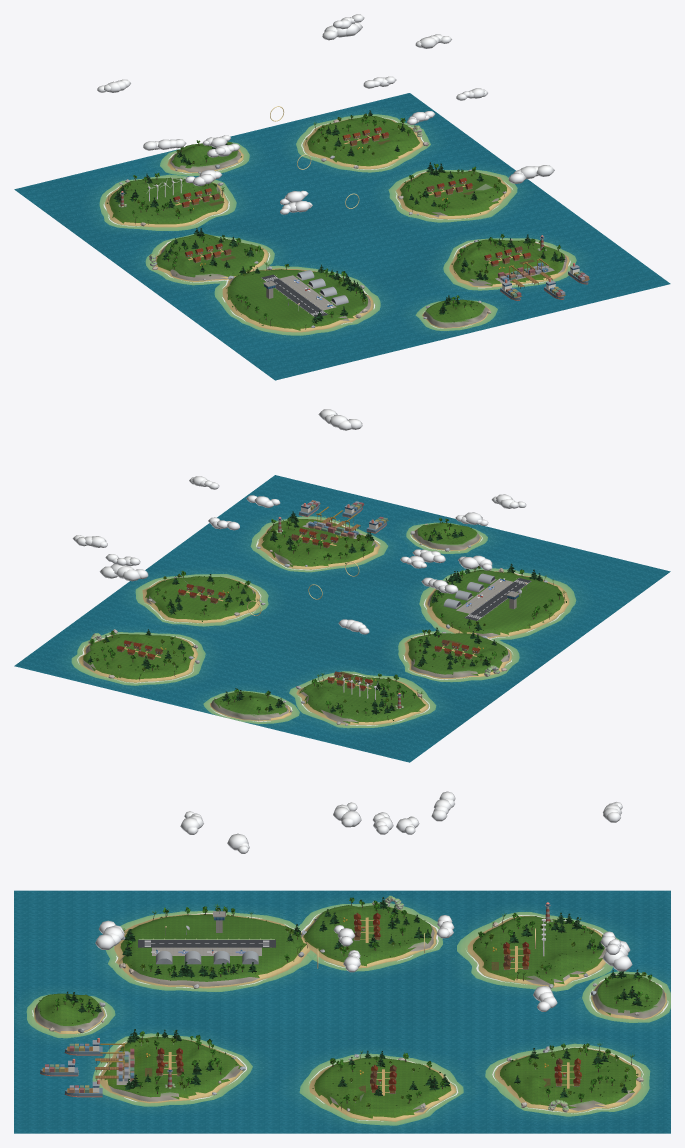
File: sky-archipelago.glb
The picture shows the model from 3 angles, top to bottom: view 1: azimuth 30°, elevation 25°; view 2: azimuth 150°, elevation 25°; view 3: azimuth 270°, elevation 25°; orthographic projection. The views are drawn at different scales.
Parts seen in each view (by area): view 1: Scenery_water, Scenery_ground, Scenery_sand, Scenery_misc, Scenery_pine, Scenery_rock, Scenery_leaf, Scenery_metal, Scenery_roof, Scenery_concrete, Scenery_wood, Scenery_asphalt; view 2: Scenery_water, Scenery_ground, Scenery_sand, Scenery_misc, Scenery_rock, Scenery_pine, Scenery_leaf, Scenery_metal, Scenery_roof, Scenery_concrete, Scenery_wood, Scenery_asphalt; view 3: Scenery_water, Scenery_ground, Scenery_sand, Scenery_misc, Scenery_rock, Scenery_pine, Scenery_leaf, Scenery_metal, Scenery_roof, Scenery_concrete, Scenery_asphalt, Scenery_wood (+1 smaller).
Part boxes in pixels (<box>): Scenery_water: <box>14,93,670,380</box>; Scenery_ground: <box>109,116,565,330</box>; Scenery_sand: <box>99,114,576,335</box>; Scenery_misc: <box>97,14,588,328</box>; Scenery_pine: <box>113,110,565,323</box>; Scenery_rock: <box>118,119,567,327</box>; Scenery_leaf: <box>106,115,562,325</box>; Scenery_metal: <box>268,258,589,305</box>; Scenery_roof: <box>173,127,531,264</box>; Scenery_concrete: <box>120,195,554,310</box>; Scenery_wood: <box>173,130,589,298</box>; Scenery_asphalt: <box>261,274,327,317</box>; Scenery_water: <box>14,475,670,762</box>; Scenery_ground: <box>83,518,564,723</box>; Scenery_sand: <box>71,516,576,728</box>; Scenery_misc: <box>72,409,563,725</box>; Scenery_rock: <box>83,523,547,725</box>; Scenery_pine: <box>87,511,543,714</box>; Scenery_leaf: <box>89,517,566,720</box>; Scenery_metal: <box>307,500,521,609</box>; Scenery_roof: <box>116,528,479,688</box>; Scenery_concrete: <box>278,520,519,708</box>; Scenery_wood: <box>117,503,479,690</box>; Scenery_asphalt: <box>464,578,531,620</box>; Scenery_water: <box>14,890,670,1133</box>; Scenery_ground: <box>37,905,662,1118</box>; Scenery_sand: <box>26,902,670,1125</box>; Scenery_misc: <box>32,791,668,1121</box>; Scenery_rock: <box>35,895,665,1112</box>; Scenery_pine: <box>65,897,642,1097</box>; Scenery_leaf: <box>55,897,652,1103</box>; Scenery_metal: <box>45,909,258,1092</box>; Scenery_roof: <box>156,912,581,1090</box>; Scenery_concrete: <box>116,907,550,1087</box>; Scenery_asphalt: <box>138,939,275,947</box>; Scenery_wood: <box>42,919,581,1093</box>.
Bounding box in the file's own units: 700 × 191 × 800.
23 materials, 21 textured.
